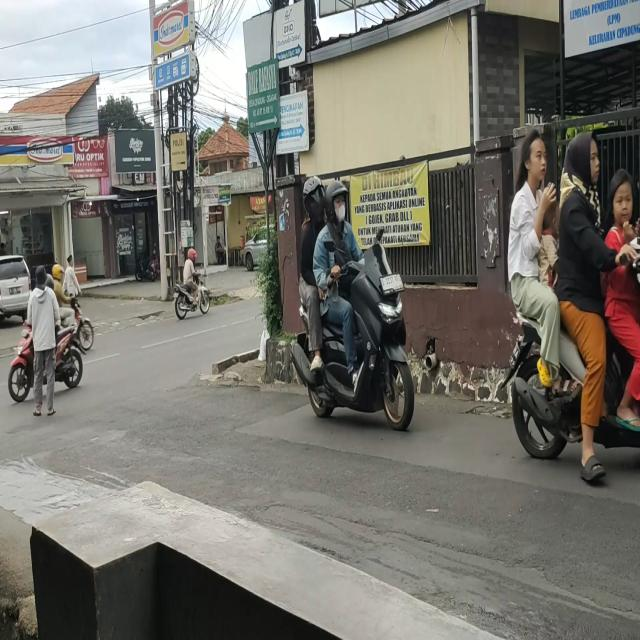helmet: (327, 183, 347, 223), (305, 180, 324, 219), (52, 262, 65, 282), (188, 248, 197, 260)
no-helmet: (572, 130, 600, 180), (523, 132, 547, 186), (610, 172, 633, 224), (543, 198, 560, 232)
